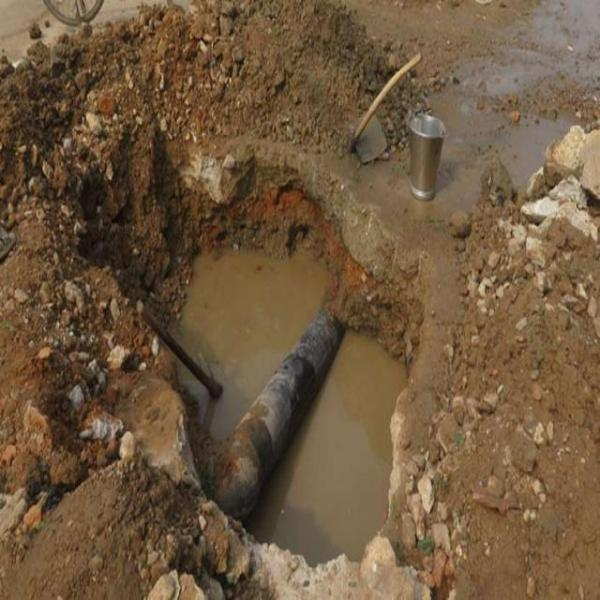water: (206, 292, 426, 510)
